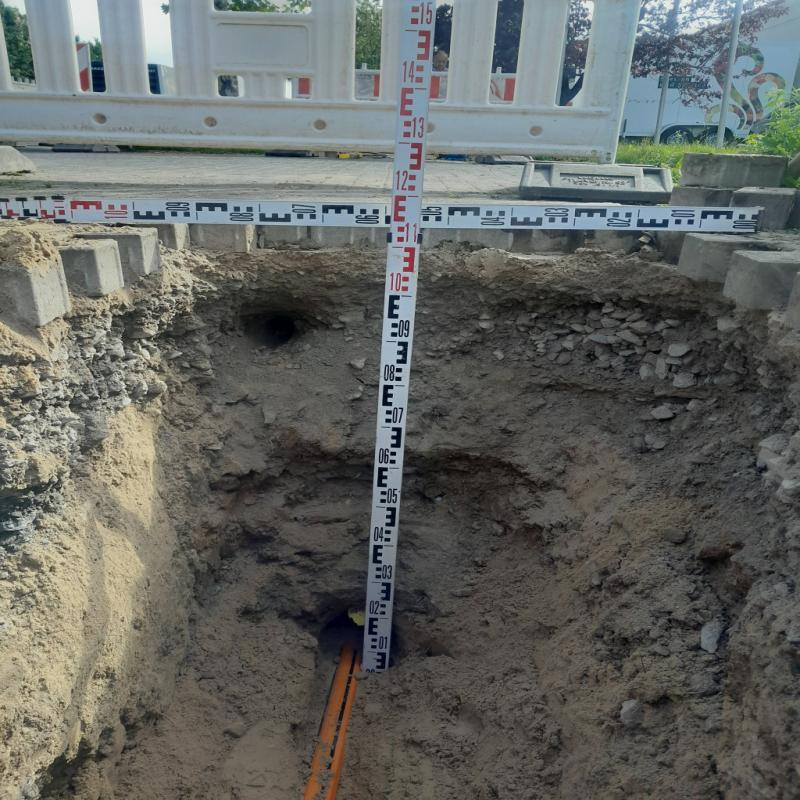Orang-Speednetrohrchen: (303, 643, 365, 800)
